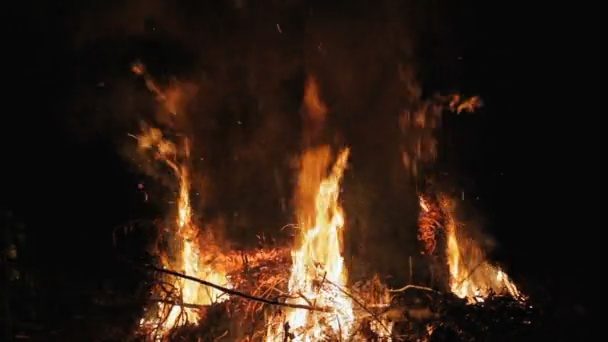fire: (282, 150, 355, 342), (418, 190, 521, 300), (168, 166, 230, 329), (368, 292, 394, 337)
